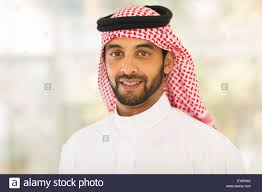middle_eastern_male: (102, 32, 176, 104)
